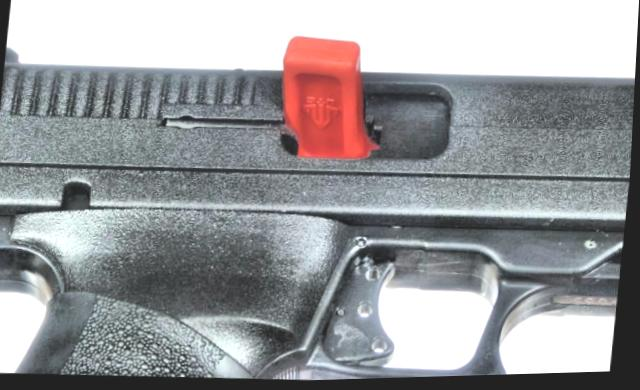pistol: (0, 33, 638, 390)
